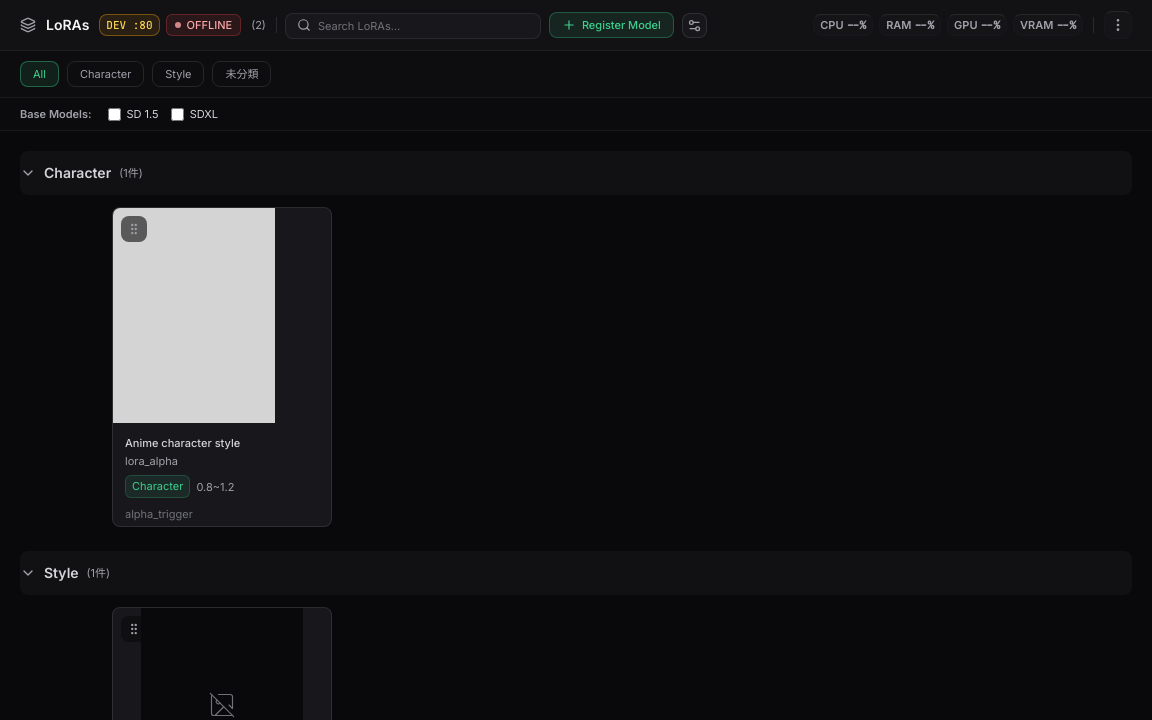
Test: LoRAsPage Component › supports multi-select mode with Ctrl/Meta click, select all, and clear selection
The image size is (1152, 720).
Note: Ctrl+Click enters multi-select mode
Click the element with id "lora-card-1": (222, 367) [112, 207, 332, 527]
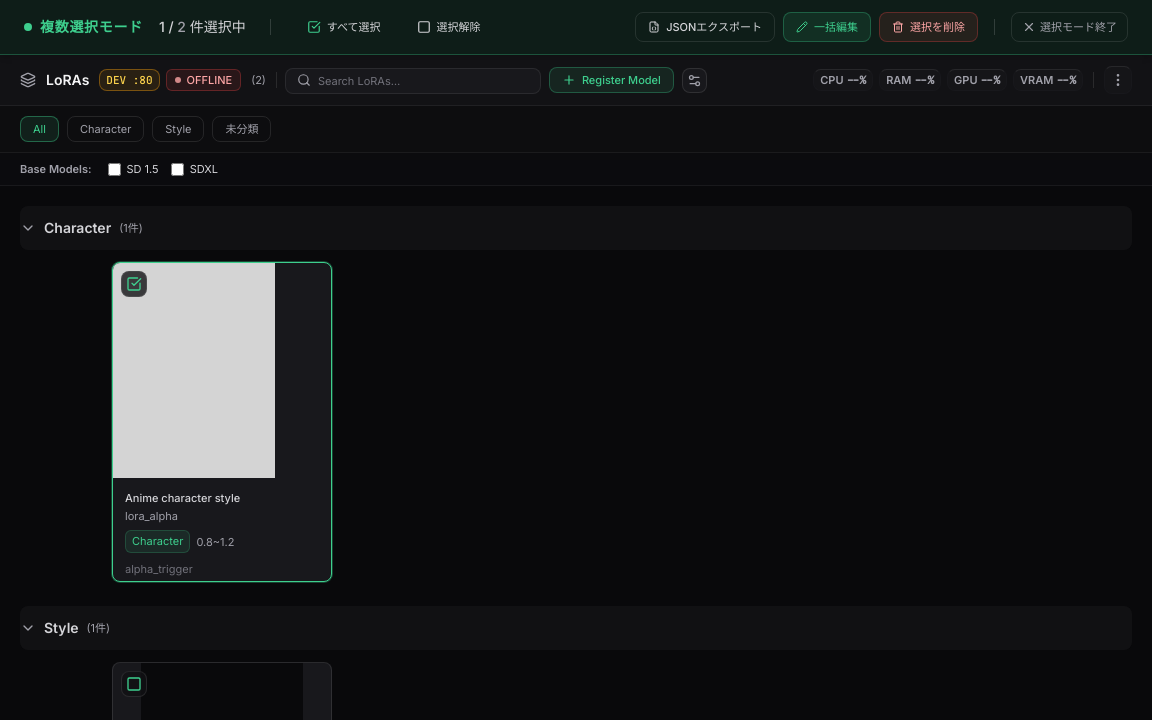
Expected: the text "複数選択モード" is shown, [40, 17, 143, 37]
Note: Click "すべて選択"
Click the button "すべて選択": (344, 27) [295, 13, 392, 41]
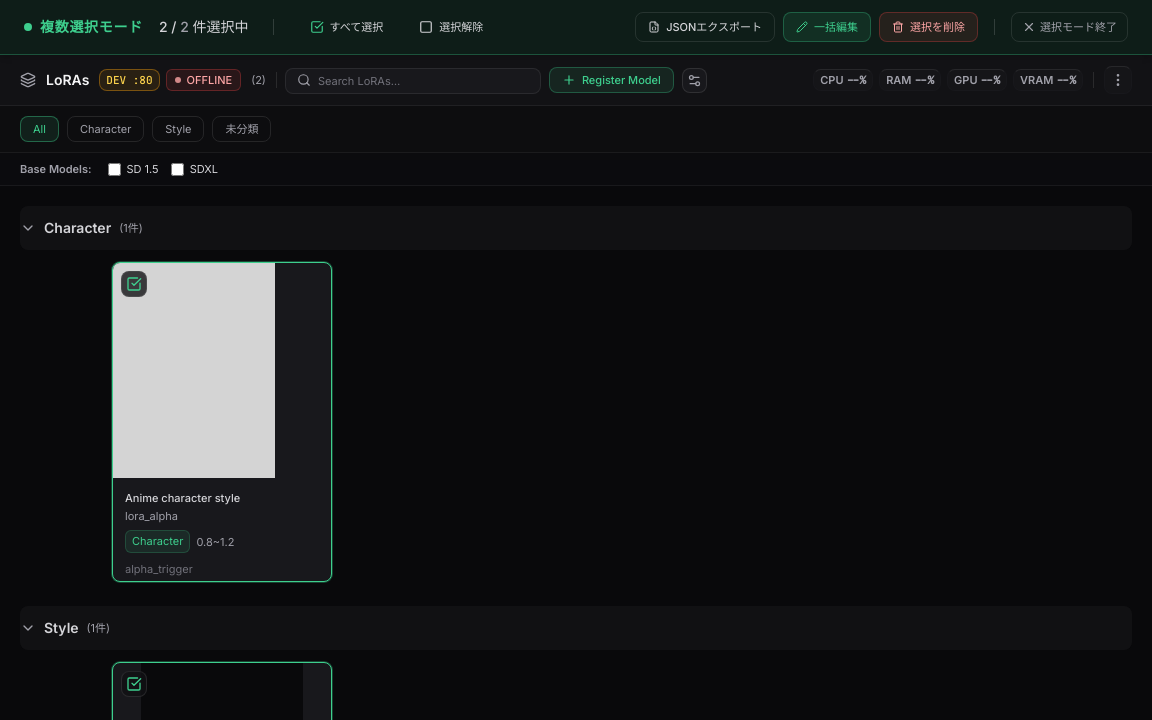
Note: Click "選択解除"
Click the button "選択解除": (451, 27) [407, 13, 495, 41]
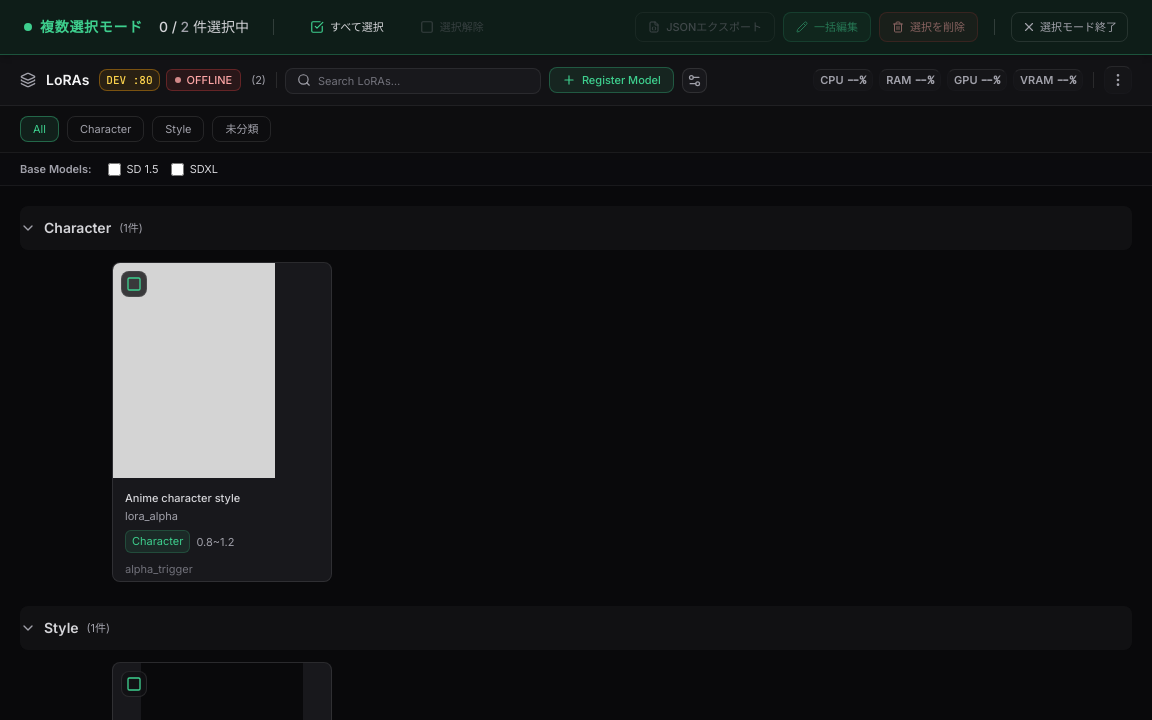
Note: Exit mode
Click the button titled "選択モード終了": (1070, 27) [1011, 12, 1128, 42]
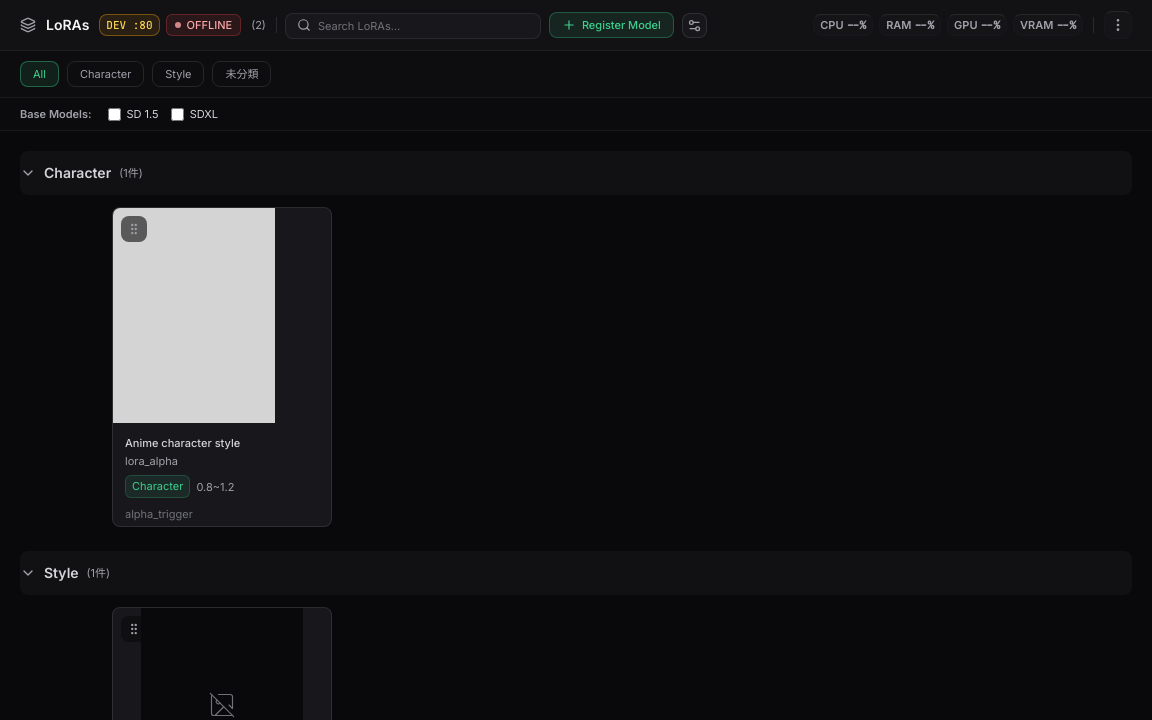
Expected: the text "複数選択モード" is gone
